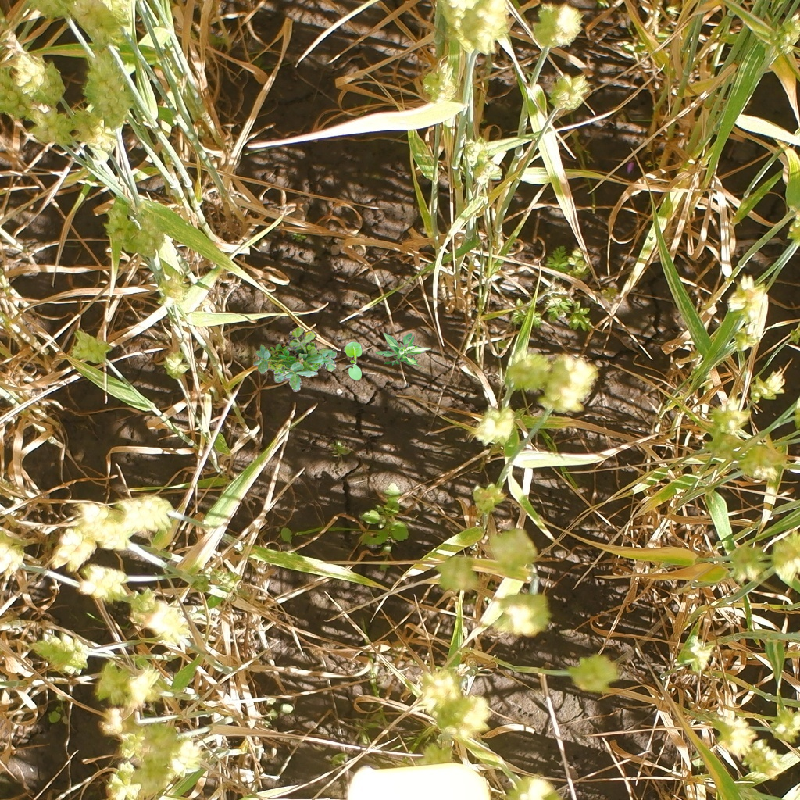spikelet: (79, 52, 138, 125), (541, 354, 597, 412), (498, 582, 550, 641), (727, 278, 769, 350), (486, 527, 541, 580), (456, 1, 510, 54), (69, 1, 135, 41), (414, 663, 474, 706), (433, 694, 489, 739), (116, 493, 176, 534), (78, 503, 131, 549), (532, 3, 582, 49), (15, 57, 65, 103), (36, 631, 89, 673), (147, 600, 192, 649), (569, 656, 620, 696), (711, 706, 753, 753), (739, 439, 786, 481), (503, 350, 550, 392), (78, 564, 129, 602), (51, 525, 96, 568), (461, 138, 501, 186), (149, 236, 189, 284), (472, 405, 516, 445), (742, 739, 785, 778), (423, 60, 458, 107), (126, 665, 168, 704), (770, 529, 800, 583), (727, 542, 767, 582), (549, 73, 590, 111), (710, 397, 748, 435), (677, 633, 713, 672), (105, 761, 141, 800), (168, 738, 203, 777), (86, 123, 118, 164), (770, 13, 799, 55), (206, 567, 241, 598), (770, 706, 800, 740), (1, 537, 25, 576)
weed: (253, 327, 337, 392), (358, 481, 413, 554), (375, 333, 431, 368), (344, 341, 363, 381)
